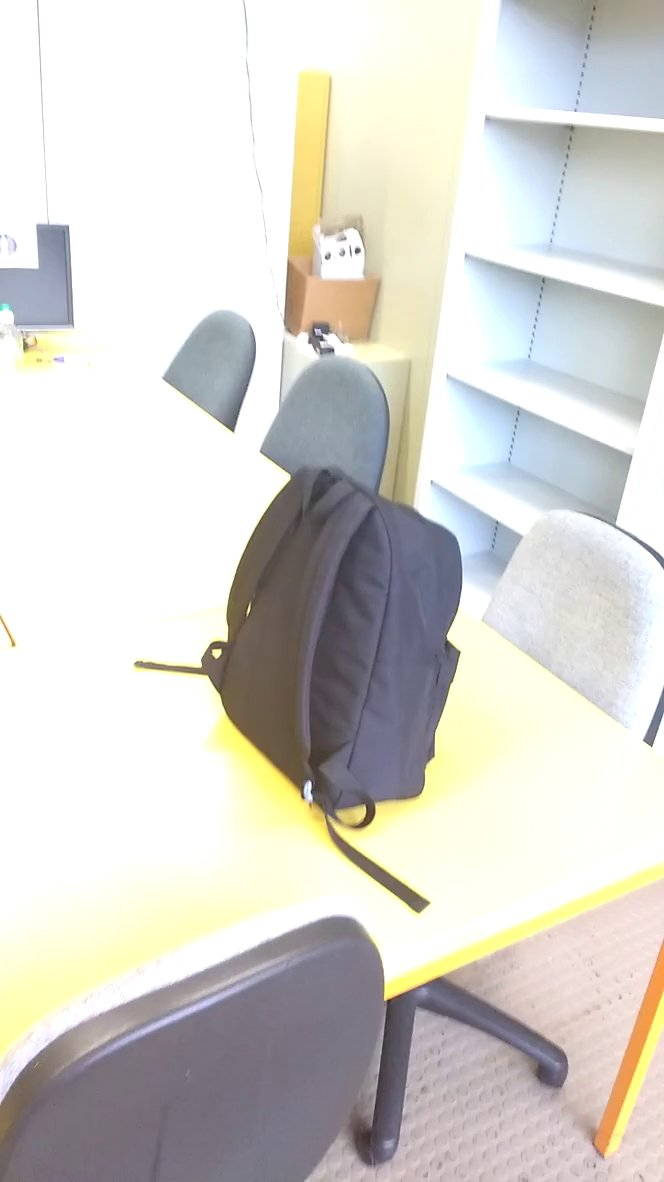bag: (194, 456, 482, 850)
chair: (2, 895, 396, 1182), (477, 497, 664, 749), (253, 345, 402, 531), (160, 306, 263, 446)
